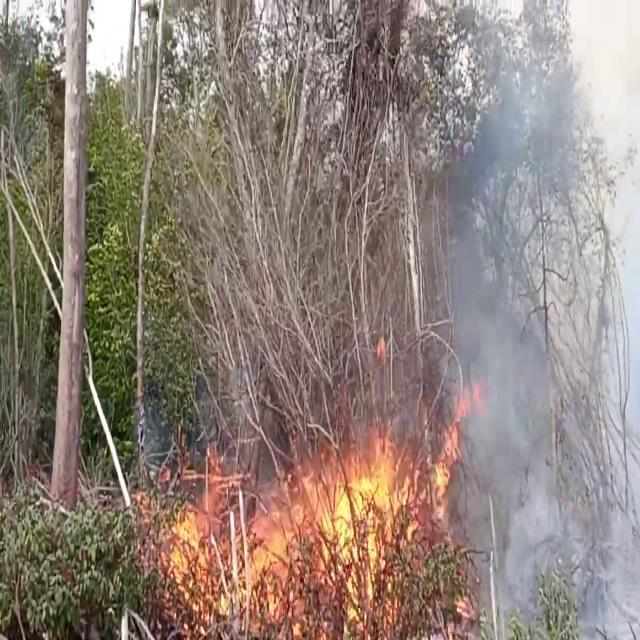Fire: (160, 425, 444, 627)
Smoke: (428, 2, 640, 636)
